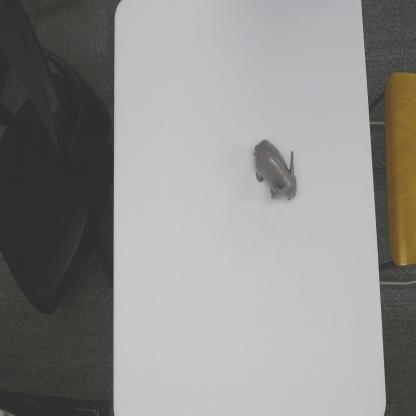Elephant: (252, 137, 298, 207)
